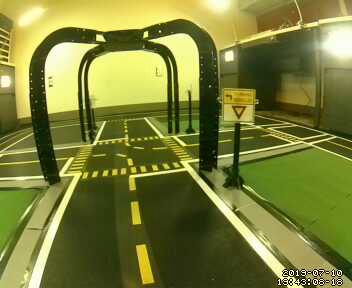Turn Yield: (221, 87, 256, 126)
